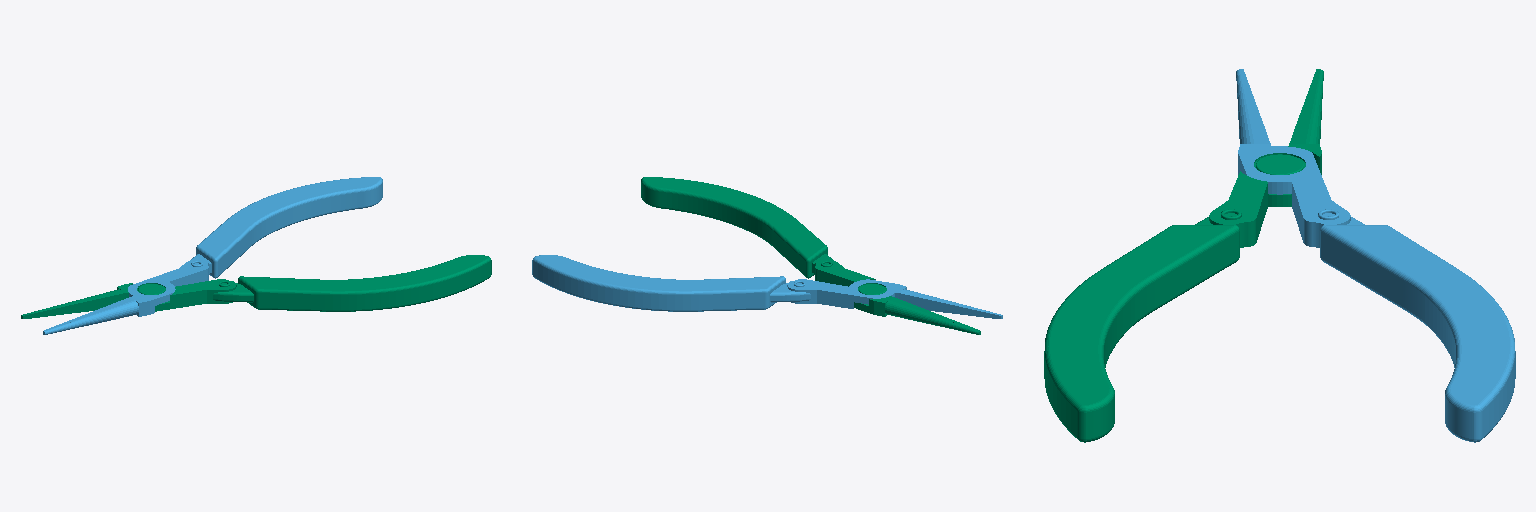
robot.urdf — partnet_b74051f4-61c9-423f-9607-b44486b3fa28-1:
<?xml version="1.0" ?>
<robot name="partnet_b74051f4-61c9-423f-9607-b44486b3fa28-1">
	<link name="base"/>
	<link name="link_0">
		<visual name="leg-1">
			<origin xyz="-0.0001691841334104261 0 -0.5112771501950916"/>
			<geometry>
				<mesh filename="textured_objs/original-4.obj"/>
			</geometry>
		</visual>
		<visual name="leg-1">
			<origin xyz="-0.0001691841334104261 0 -0.5112771501950916"/>
			<geometry>
				<mesh filename="textured_objs/original-7.obj"/>
			</geometry>
		</visual>
		<visual name="leg-1">
			<origin xyz="-0.0001691841334104261 0 -0.5112771501950916"/>
			<geometry>
				<mesh filename="textured_objs/original-26.obj"/>
			</geometry>
		</visual>
		<visual name="leg-1">
			<origin xyz="-0.0001691841334104261 0 -0.5112771501950916"/>
			<geometry>
				<mesh filename="textured_objs/original-23.obj"/>
			</geometry>
		</visual>
		<visual name="leg-1">
			<origin xyz="-0.0001691841334104261 0 -0.5112771501950916"/>
			<geometry>
				<mesh filename="textured_objs/original-22.obj"/>
			</geometry>
		</visual>
		<visual name="leg-1">
			<origin xyz="-0.0001691841334104261 0 -0.5112771501950916"/>
			<geometry>
				<mesh filename="textured_objs/original-11.obj"/>
			</geometry>
		</visual>
		<visual name="leg-1">
			<origin xyz="-0.0001691841334104261 0 -0.5112771501950916"/>
			<geometry>
				<mesh filename="textured_objs/original-18.obj"/>
			</geometry>
		</visual>
		<visual name="leg-1">
			<origin xyz="-0.0001691841334104261 0 -0.5112771501950916"/>
			<geometry>
				<mesh filename="textured_objs/original-10.obj"/>
			</geometry>
		</visual>
		<visual name="leg-1">
			<origin xyz="-0.0001691841334104261 0 -0.5112771501950916"/>
			<geometry>
				<mesh filename="textured_objs/original-24.obj"/>
			</geometry>
		</visual>
		<visual name="leg-1">
			<origin xyz="-0.0001691841334104261 0 -0.5112771501950916"/>
			<geometry>
				<mesh filename="textured_objs/original-25.obj"/>
			</geometry>
		</visual>
		<visual name="leg-1">
			<origin xyz="-0.0001691841334104261 0 -0.5112771501950916"/>
			<geometry>
				<mesh filename="textured_objs/original-8.obj"/>
			</geometry>
		</visual>
		<visual name="leg-1">
			<origin xyz="-0.0001691841334104261 0 -0.5112771501950916"/>
			<geometry>
				<mesh filename="textured_objs/original-19.obj"/>
			</geometry>
		</visual>
		<visual name="leg-1">
			<origin xyz="-0.0001691841334104261 0 -0.5112771501950916"/>
			<geometry>
				<mesh filename="textured_objs/original-5.obj"/>
			</geometry>
		</visual>
		<collision>
			<origin xyz="-0.0001691841334104261 0 -0.5112771501950916"/>
			<geometry>
				<mesh filename="textured_objs/original-4.obj"/>
			</geometry>
		</collision>
		<collision>
			<origin xyz="-0.0001691841334104261 0 -0.5112771501950916"/>
			<geometry>
				<mesh filename="textured_objs/original-7.obj"/>
			</geometry>
		</collision>
		<collision>
			<origin xyz="-0.0001691841334104261 0 -0.5112771501950916"/>
			<geometry>
				<mesh filename="textured_objs/original-26.obj"/>
			</geometry>
		</collision>
		<collision>
			<origin xyz="-0.0001691841334104261 0 -0.5112771501950916"/>
			<geometry>
				<mesh filename="textured_objs/original-23.obj"/>
			</geometry>
		</collision>
		<collision>
			<origin xyz="-0.0001691841334104261 0 -0.5112771501950916"/>
			<geometry>
				<mesh filename="textured_objs/original-22.obj"/>
			</geometry>
		</collision>
		<collision>
			<origin xyz="-0.0001691841334104261 0 -0.5112771501950916"/>
			<geometry>
				<mesh filename="textured_objs/original-11.obj"/>
			</geometry>
		</collision>
		<collision>
			<origin xyz="-0.0001691841334104261 0 -0.5112771501950916"/>
			<geometry>
				<mesh filename="textured_objs/original-18.obj"/>
			</geometry>
		</collision>
		<collision>
			<origin xyz="-0.0001691841334104261 0 -0.5112771501950916"/>
			<geometry>
				<mesh filename="textured_objs/original-10.obj"/>
			</geometry>
		</collision>
		<collision>
			<origin xyz="-0.0001691841334104261 0 -0.5112771501950916"/>
			<geometry>
				<mesh filename="textured_objs/original-24.obj"/>
			</geometry>
		</collision>
		<collision>
			<origin xyz="-0.0001691841334104261 0 -0.5112771501950916"/>
			<geometry>
				<mesh filename="textured_objs/original-25.obj"/>
			</geometry>
		</collision>
		<collision>
			<origin xyz="-0.0001691841334104261 0 -0.5112771501950916"/>
			<geometry>
				<mesh filename="textured_objs/original-8.obj"/>
			</geometry>
		</collision>
		<collision>
			<origin xyz="-0.0001691841334104261 0 -0.5112771501950916"/>
			<geometry>
				<mesh filename="textured_objs/original-19.obj"/>
			</geometry>
		</collision>
		<collision>
			<origin xyz="-0.0001691841334104261 0 -0.5112771501950916"/>
			<geometry>
				<mesh filename="textured_objs/original-5.obj"/>
			</geometry>
		</collision>
	</link>
	<joint name="joint_0" type="revolute">
		<origin xyz="0.0001691841334104261 0 0.5112771501950916"/>
		<axis xyz="0 1 0"/>
		<child link="link_0"/>
		<parent link="link_1"/>
		<limit lower="0.0" upper="1.5707963267948966"/>
	</joint>
	<link name="link_1">
		<visual name="base_body-4">
			<origin xyz="0 0 0"/>
			<geometry>
				<mesh filename="textured_objs/original-36.obj"/>
			</geometry>
		</visual>
		<visual name="base_body-4">
			<origin xyz="0 0 0"/>
			<geometry>
				<mesh filename="textured_objs/original-41.obj"/>
			</geometry>
		</visual>
		<visual name="base_body-4">
			<origin xyz="0 0 0"/>
			<geometry>
				<mesh filename="textured_objs/original-43.obj"/>
			</geometry>
		</visual>
		<visual name="base_body-4">
			<origin xyz="0 0 0"/>
			<geometry>
				<mesh filename="textured_objs/original-52.obj"/>
			</geometry>
		</visual>
		<visual name="base_body-4">
			<origin xyz="0 0 0"/>
			<geometry>
				<mesh filename="textured_objs/original-3.obj"/>
			</geometry>
		</visual>
		<visual name="base_body-4">
			<origin xyz="0 0 0"/>
			<geometry>
				<mesh filename="textured_objs/original-65.obj"/>
			</geometry>
		</visual>
		<visual name="base_body-4">
			<origin xyz="0 0 0"/>
			<geometry>
				<mesh filename="textured_objs/original-44.obj"/>
			</geometry>
		</visual>
		<visual name="base_body-4">
			<origin xyz="0 0 0"/>
			<geometry>
				<mesh filename="textured_objs/original-13.obj"/>
			</geometry>
		</visual>
		<visual name="base_body-4">
			<origin xyz="0 0 0"/>
			<geometry>
				<mesh filename="textured_objs/original-45.obj"/>
			</geometry>
		</visual>
		<visual name="base_body-4">
			<origin xyz="0 0 0"/>
			<geometry>
				<mesh filename="textured_objs/original-35.obj"/>
			</geometry>
		</visual>
		<visual name="base_body-4">
			<origin xyz="0 0 0"/>
			<geometry>
				<mesh filename="textured_objs/original-49.obj"/>
			</geometry>
		</visual>
		<visual name="base_body-4">
			<origin xyz="0 0 0"/>
			<geometry>
				<mesh filename="textured_objs/original-61.obj"/>
			</geometry>
		</visual>
		<visual name="base_body-4">
			<origin xyz="0 0 0"/>
			<geometry>
				<mesh filename="textured_objs/original-39.obj"/>
			</geometry>
		</visual>
		<visual name="base_body-4">
			<origin xyz="0 0 0"/>
			<geometry>
				<mesh filename="textured_objs/original-59.obj"/>
			</geometry>
		</visual>
		<visual name="base_body-4">
			<origin xyz="0 0 0"/>
			<geometry>
				<mesh filename="textured_objs/original-54.obj"/>
			</geometry>
		</visual>
		<visual name="base_body-4">
			<origin xyz="0 0 0"/>
			<geometry>
				<mesh filename="textured_objs/original-63.obj"/>
			</geometry>
		</visual>
		<visual name="base_body-4">
			<origin xyz="0 0 0"/>
			<geometry>
				<mesh filename="textured_objs/original-51.obj"/>
			</geometry>
		</visual>
		<visual name="base_body-4">
			<origin xyz="0 0 0"/>
			<geometry>
				<mesh filename="textured_objs/original-55.obj"/>
			</geometry>
		</visual>
		<visual name="base_body-4">
			<origin xyz="0 0 0"/>
			<geometry>
				<mesh filename="textured_objs/original-50.obj"/>
			</geometry>
		</visual>
		<visual name="base_body-4">
			<origin xyz="0 0 0"/>
			<geometry>
				<mesh filename="textured_objs/original-6.obj"/>
			</geometry>
		</visual>
		<visual name="base_body-4">
			<origin xyz="0 0 0"/>
			<geometry>
				<mesh filename="textured_objs/original-37.obj"/>
			</geometry>
		</visual>
		<visual name="base_body-4">
			<origin xyz="0 0 0"/>
			<geometry>
				<mesh filename="textured_objs/original-48.obj"/>
			</geometry>
		</visual>
		<visual name="base_body-4">
			<origin xyz="0 0 0"/>
			<geometry>
				<mesh filename="textured_objs/original-15.obj"/>
			</geometry>
		</visual>
		<visual name="base_body-4">
			<origin xyz="0 0 0"/>
			<geometry>
				<mesh filename="textured_objs/original-56.obj"/>
			</geometry>
		</visual>
		<visual name="base_body-4">
			<origin xyz="0 0 0"/>
			<geometry>
				<mesh filename="textured_objs/original-62.obj"/>
			</geometry>
		</visual>
		<visual name="base_body-4">
			<origin xyz="0 0 0"/>
			<geometry>
				<mesh filename="textured_objs/original-66.obj"/>
			</geometry>
		</visual>
		<visual name="base_body-4">
			<origin xyz="0 0 0"/>
			<geometry>
				<mesh filename="textured_objs/original-58.obj"/>
			</geometry>
		</visual>
		<visual name="base_body-4">
			<origin xyz="0 0 0"/>
			<geometry>
				<mesh filename="textured_objs/original-38.obj"/>
			</geometry>
		</visual>
		<visual name="base_body-4">
			<origin xyz="0 0 0"/>
			<geometry>
				<mesh filename="textured_objs/original-34.obj"/>
			</geometry>
		</visual>
		<visual name="base_body-4">
			<origin xyz="0 0 0"/>
			<geometry>
				<mesh filename="textured_objs/original-42.obj"/>
			</geometry>
		</visual>
		<visual name="base_body-4">
			<origin xyz="0 0 0"/>
			<geometry>
				<mesh filename="textured_objs/original-20.obj"/>
			</geometry>
		</visual>
		<visual name="base_body-4">
			<origin xyz="0 0 0"/>
			<geometry>
				<mesh filename="textured_objs/original-47.obj"/>
			</geometry>
		</visual>
		<visual name="base_body-4">
			<origin xyz="0 0 0"/>
			<geometry>
				<mesh filename="textured_objs/original-53.obj"/>
			</geometry>
		</visual>
		<visual name="base_body-4">
			<origin xyz="0 0 0"/>
			<geometry>
				<mesh filename="textured_objs/original-60.obj"/>
			</geometry>
		</visual>
		<visual name="base_body-4">
			<origin xyz="0 0 0"/>
			<geometry>
				<mesh filename="textured_objs/original-40.obj"/>
			</geometry>
		</visual>
		<visual name="base_body-4">
			<origin xyz="0 0 0"/>
			<geometry>
				<mesh filename="textured_objs/original-46.obj"/>
			</geometry>
		</visual>
		<visual name="base_body-4">
			<origin xyz="0 0 0"/>
			<geometry>
				<mesh filename="textured_objs/original-57.obj"/>
			</geometry>
		</visual>
		<collision>
			<origin xyz="0 0 0"/>
			<geometry>
				<mesh filename="textured_objs/original-36.obj"/>
			</geometry>
		</collision>
		<collision>
			<origin xyz="0 0 0"/>
			<geometry>
				<mesh filename="textured_objs/original-41.obj"/>
			</geometry>
		</collision>
		<collision>
			<origin xyz="0 0 0"/>
			<geometry>
				<mesh filename="textured_objs/original-43.obj"/>
			</geometry>
		</collision>
		<collision>
			<origin xyz="0 0 0"/>
			<geometry>
				<mesh filename="textured_objs/original-52.obj"/>
			</geometry>
		</collision>
		<collision>
			<origin xyz="0 0 0"/>
			<geometry>
				<mesh filename="textured_objs/original-3.obj"/>
			</geometry>
		</collision>
		<collision>
			<origin xyz="0 0 0"/>
			<geometry>
				<mesh filename="textured_objs/original-65.obj"/>
			</geometry>
		</collision>
		<collision>
			<origin xyz="0 0 0"/>
			<geometry>
				<mesh filename="textured_objs/original-44.obj"/>
			</geometry>
		</collision>
		<collision>
			<origin xyz="0 0 0"/>
			<geometry>
				<mesh filename="textured_objs/original-13.obj"/>
			</geometry>
		</collision>
		<collision>
			<origin xyz="0 0 0"/>
			<geometry>
				<mesh filename="textured_objs/original-45.obj"/>
			</geometry>
		</collision>
		<collision>
			<origin xyz="0 0 0"/>
			<geometry>
				<mesh filename="textured_objs/original-35.obj"/>
			</geometry>
		</collision>
		<collision>
			<origin xyz="0 0 0"/>
			<geometry>
				<mesh filename="textured_objs/original-49.obj"/>
			</geometry>
		</collision>
		<collision>
			<origin xyz="0 0 0"/>
			<geometry>
				<mesh filename="textured_objs/original-61.obj"/>
			</geometry>
		</collision>
		<collision>
			<origin xyz="0 0 0"/>
			<geometry>
				<mesh filename="textured_objs/original-39.obj"/>
			</geometry>
		</collision>
		<collision>
			<origin xyz="0 0 0"/>
			<geometry>
				<mesh filename="textured_objs/original-59.obj"/>
			</geometry>
		</collision>
		<collision>
			<origin xyz="0 0 0"/>
			<geometry>
				<mesh filename="textured_objs/original-54.obj"/>
			</geometry>
		</collision>
		<collision>
			<origin xyz="0 0 0"/>
			<geometry>
				<mesh filename="textured_objs/original-63.obj"/>
			</geometry>
		</collision>
		<collision>
			<origin xyz="0 0 0"/>
			<geometry>
				<mesh filename="textured_objs/original-51.obj"/>
			</geometry>
		</collision>
		<collision>
			<origin xyz="0 0 0"/>
			<geometry>
				<mesh filename="textured_objs/original-55.obj"/>
			</geometry>
		</collision>
		<collision>
			<origin xyz="0 0 0"/>
			<geometry>
				<mesh filename="textured_objs/original-50.obj"/>
			</geometry>
		</collision>
		<collision>
			<origin xyz="0 0 0"/>
			<geometry>
				<mesh filename="textured_objs/original-6.obj"/>
			</geometry>
		</collision>
		<collision>
			<origin xyz="0 0 0"/>
			<geometry>
				<mesh filename="textured_objs/original-37.obj"/>
			</geometry>
		</collision>
		<collision>
			<origin xyz="0 0 0"/>
			<geometry>
				<mesh filename="textured_objs/original-48.obj"/>
			</geometry>
		</collision>
		<collision>
			<origin xyz="0 0 0"/>
			<geometry>
				<mesh filename="textured_objs/original-15.obj"/>
			</geometry>
		</collision>
		<collision>
			<origin xyz="0 0 0"/>
			<geometry>
				<mesh filename="textured_objs/original-56.obj"/>
			</geometry>
		</collision>
		<collision>
			<origin xyz="0 0 0"/>
			<geometry>
				<mesh filename="textured_objs/original-62.obj"/>
			</geometry>
		</collision>
		<collision>
			<origin xyz="0 0 0"/>
			<geometry>
				<mesh filename="textured_objs/original-66.obj"/>
			</geometry>
		</collision>
		<collision>
			<origin xyz="0 0 0"/>
			<geometry>
				<mesh filename="textured_objs/original-58.obj"/>
			</geometry>
		</collision>
		<collision>
			<origin xyz="0 0 0"/>
			<geometry>
				<mesh filename="textured_objs/original-38.obj"/>
			</geometry>
		</collision>
		<collision>
			<origin xyz="0 0 0"/>
			<geometry>
				<mesh filename="textured_objs/original-34.obj"/>
			</geometry>
		</collision>
		<collision>
			<origin xyz="0 0 0"/>
			<geometry>
				<mesh filename="textured_objs/original-42.obj"/>
			</geometry>
		</collision>
		<collision>
			<origin xyz="0 0 0"/>
			<geometry>
				<mesh filename="textured_objs/original-20.obj"/>
			</geometry>
		</collision>
		<collision>
			<origin xyz="0 0 0"/>
			<geometry>
				<mesh filename="textured_objs/original-47.obj"/>
			</geometry>
		</collision>
		<collision>
			<origin xyz="0 0 0"/>
			<geometry>
				<mesh filename="textured_objs/original-53.obj"/>
			</geometry>
		</collision>
		<collision>
			<origin xyz="0 0 0"/>
			<geometry>
				<mesh filename="textured_objs/original-60.obj"/>
			</geometry>
		</collision>
		<collision>
			<origin xyz="0 0 0"/>
			<geometry>
				<mesh filename="textured_objs/original-40.obj"/>
			</geometry>
		</collision>
		<collision>
			<origin xyz="0 0 0"/>
			<geometry>
				<mesh filename="textured_objs/original-46.obj"/>
			</geometry>
		</collision>
		<collision>
			<origin xyz="0 0 0"/>
			<geometry>
				<mesh filename="textured_objs/original-57.obj"/>
			</geometry>
		</collision>
	</link>
	<joint name="joint_1" type="fixed">
		<origin rpy="1.570796326794897 0 -1.570796326794897" xyz="0 0 0"/>
		<child link="link_1"/>
		<parent link="base"/>
	</joint>
</robot>

--- Facts derived from the render (not from the file) ---
The picture shows the robot from 3 angles, left to right: view 1: azimuth 30°, elevation 25°; view 2: azimuth 150°, elevation 25°; view 3: azimuth 270°, elevation 25°; orthographic projection.
Robot: partnet_b74051f4-61c9-423f-9607-b44486b3fa28-1 — 3 links, 2 joints (1 revolute, 1 fixed); root link base; default pose: every joint at zero.
Visible links, largest first — view 1: link_1, link_0; view 2: link_0, link_1; view 3: link_0, link_1.
Link boxes in pixels (left/top/right/bottom): link_1: left=21, top=255, right=491, bottom=318; link_0: left=43, top=177, right=382, bottom=334; link_0: left=532, top=255, right=1002, bottom=318; link_1: left=641, top=177, right=980, bottom=334; link_0: left=1236, top=69, right=1515, bottom=442; link_1: left=1044, top=69, right=1323, bottom=442.
Size in the robot's own frame: 1.69 by 0.9548 by 0.082 metres.
50 mesh visuals loaded from 50 distinct referenced files (50 OBJ).